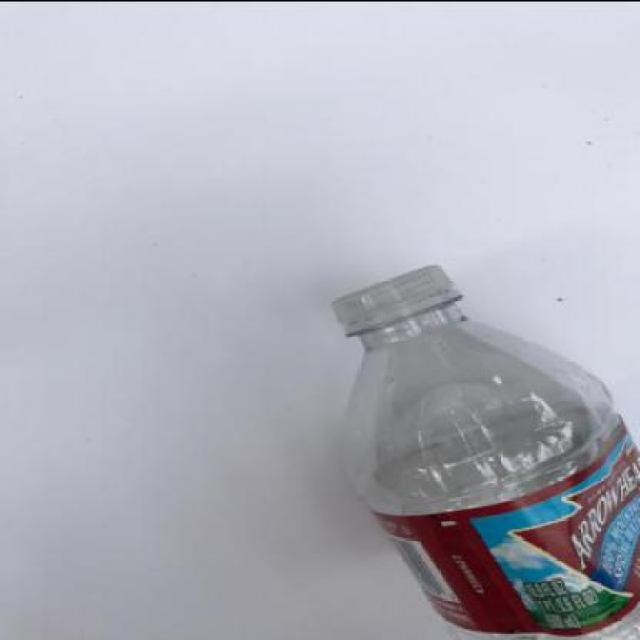PLASTIC: (332, 258, 638, 638), (338, 403, 638, 635), (331, 260, 467, 334)
